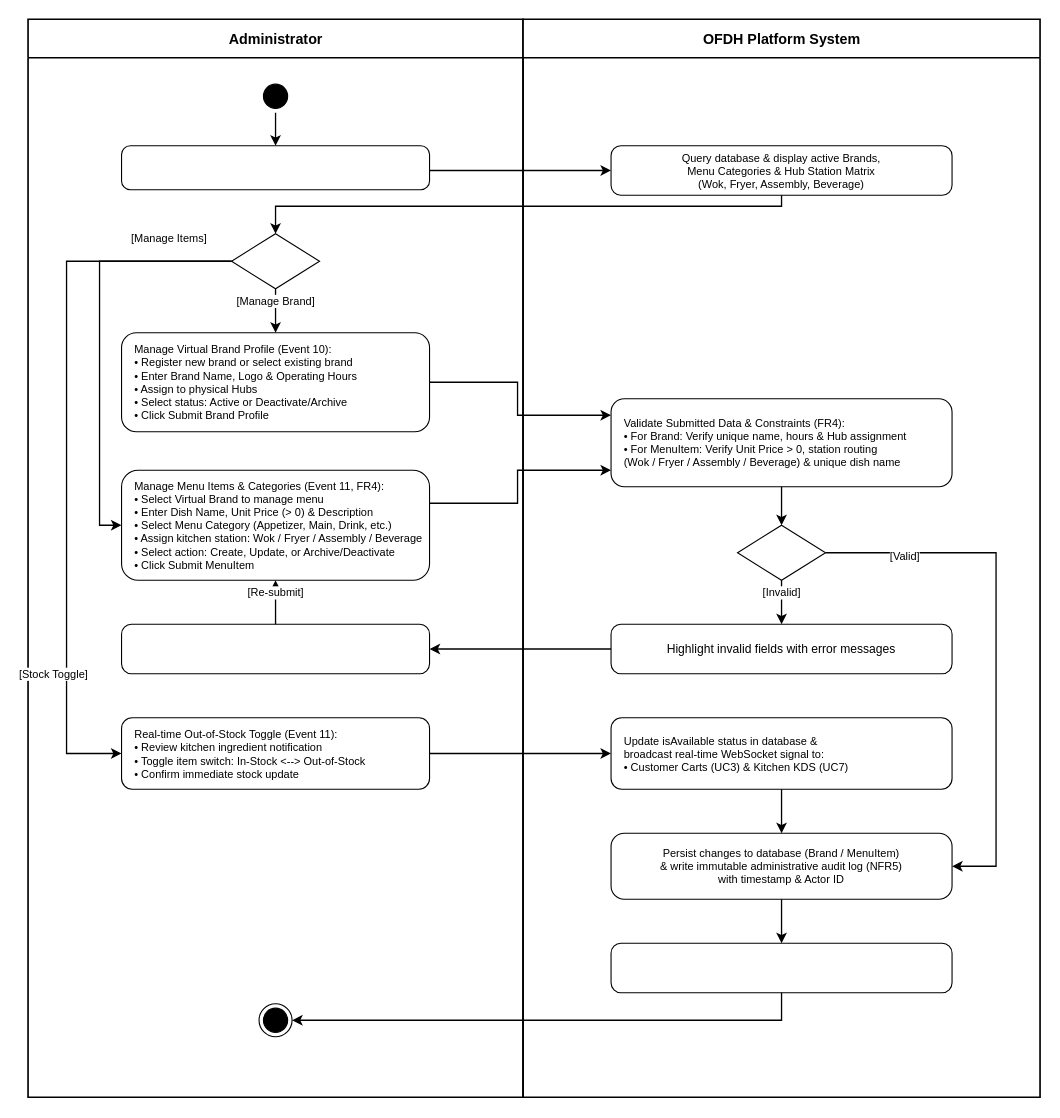
The diagram is 1060 pixels wide and 1118 high, and some of its shapes have lost their labels. The shapes that lost their labels are listed below. From the top down, each one's centre as x and y in pixels, then its label:
(x=275, y=167): Open Brand & Digital Menu Console
(x=275, y=261): Action?
(x=781, y=552): Valid?
(x=275, y=648): Review & correct invalid input fields (or click Cancel to revert)
(x=781, y=967): Display success notification & synchronize updated catalog across Hubs
